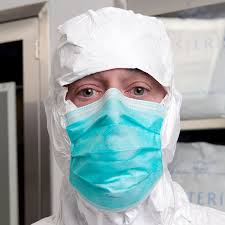mask: (60, 97, 169, 203)
